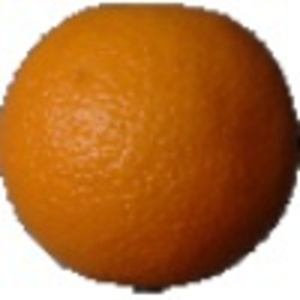laranja: (3, 5, 297, 298)
